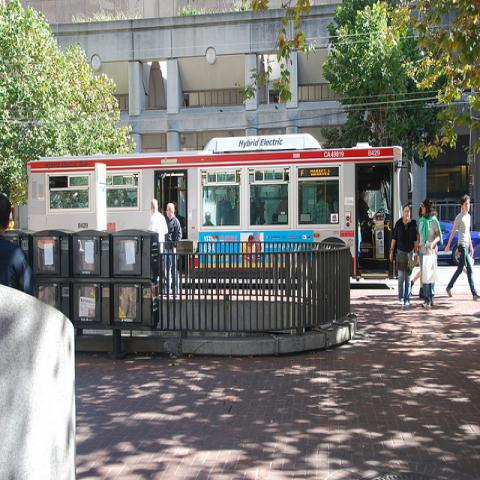bus: (27, 134, 411, 279)
car: (436, 222, 480, 267)
